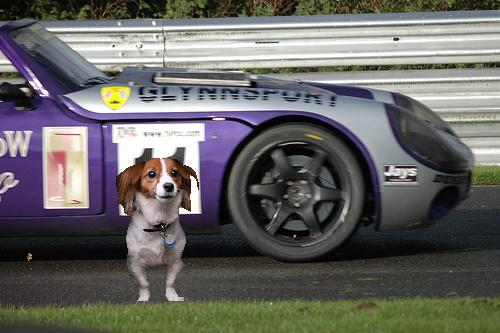tampered: (117, 159, 199, 301)
